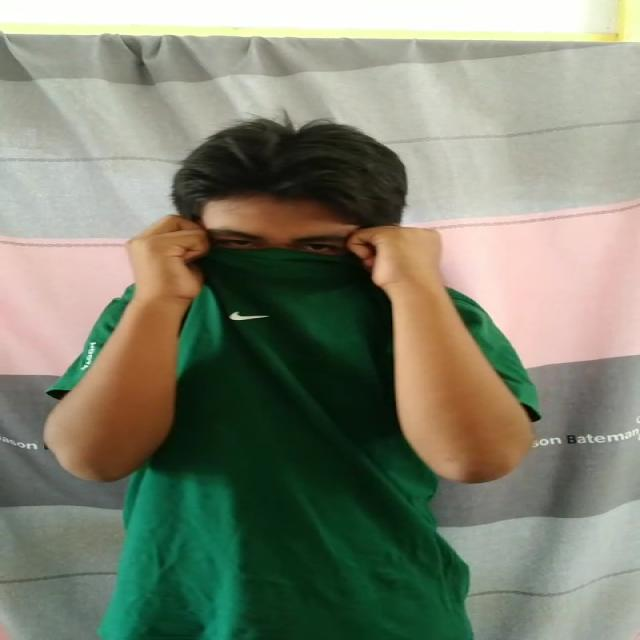8_ropa_rostro: (152, 234, 414, 333)
